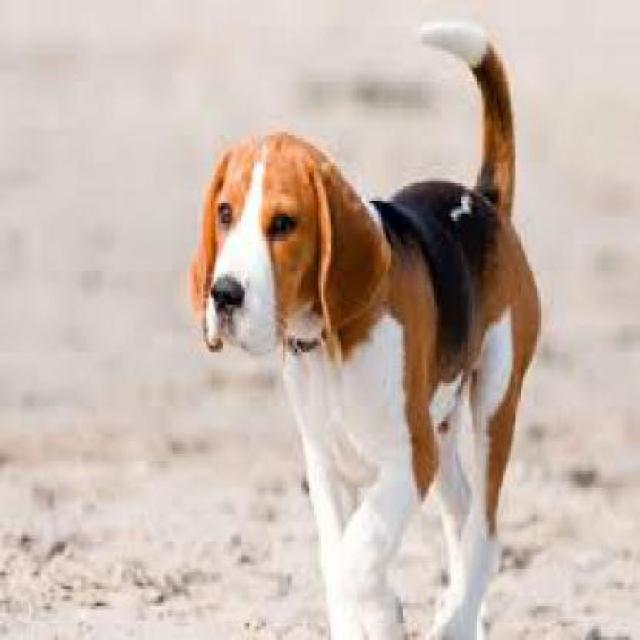Dog: (176, 11, 544, 637)
